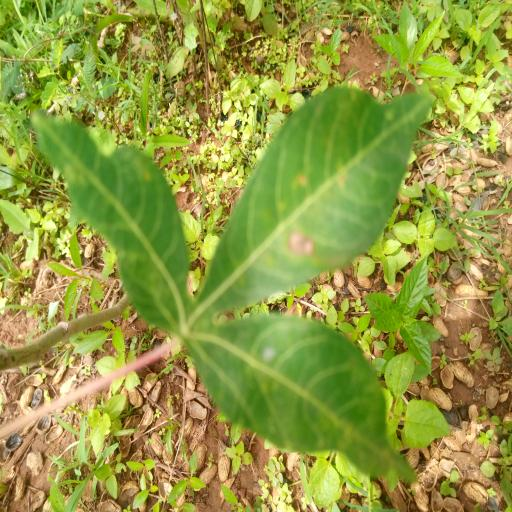Cassava_Brown_Leaf_Spot: (32, 77, 444, 489)
